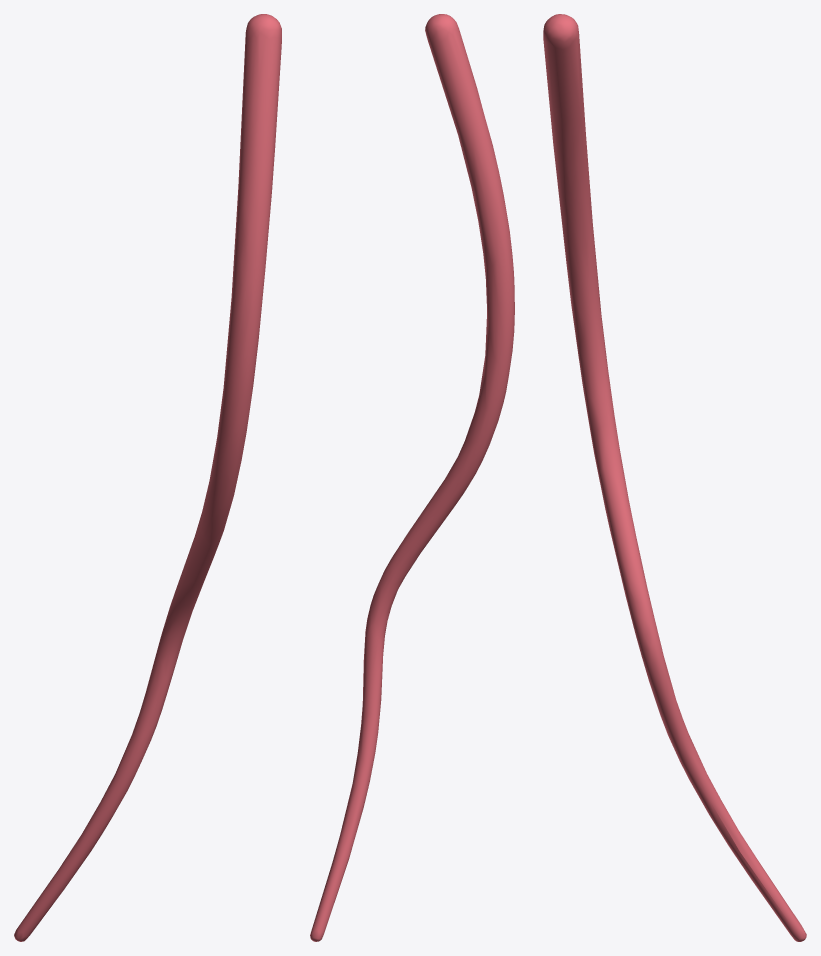
The model's file is fma22713_fj2215.glb.
The picture shows the model from 3 angles, left to right: view 1: azimuth 90°, elevation 25°; view 2: azimuth 150°, elevation 25°; view 3: azimuth 270°, elevation 25°; orthographic projection. The views are drawn at different scales.
Parts seen in each view (by area): view 1: FMA22713_FJ2215; view 2: FMA22713_FJ2215; view 3: FMA22713_FJ2215.
Boxes of the visible parts, left/top/right/bottom form: FMA22713_FJ2215: left=14, top=14, right=281, bottom=941; FMA22713_FJ2215: left=310, top=14, right=514, bottom=941; FMA22713_FJ2215: left=543, top=14, right=806, bottom=941.
Bounding box in the file's own units: 0.00952 × 0.0685 × 0.0178.
